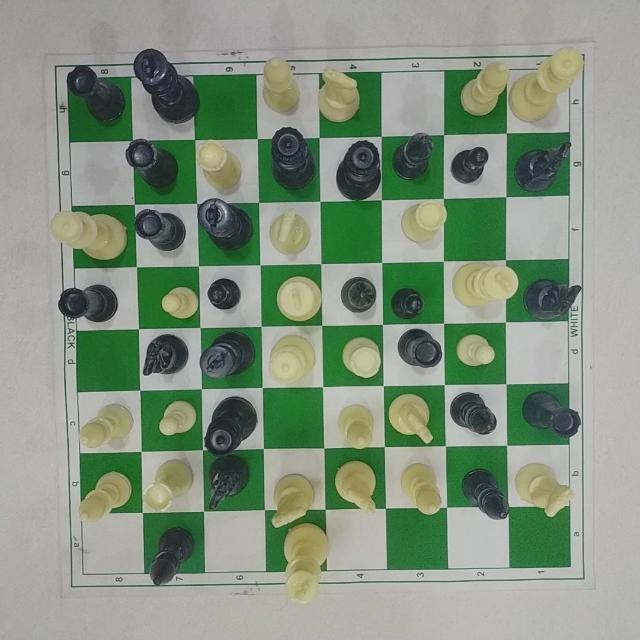black-bishop: (148, 522, 200, 587), (464, 460, 513, 525), (448, 390, 502, 440), (394, 129, 438, 187), (341, 268, 380, 317)
black-king: (133, 42, 205, 131), (197, 191, 261, 255), (199, 326, 258, 380)
black-knight: (516, 137, 578, 193), (525, 268, 587, 322), (206, 455, 254, 513), (140, 332, 190, 380)
black-pawn: (450, 143, 493, 185), (391, 282, 433, 322), (206, 274, 243, 316)
black-queen: (205, 394, 262, 456), (333, 140, 388, 202), (269, 126, 319, 190)
black-rook: (518, 385, 589, 447), (66, 63, 130, 125), (50, 279, 124, 325), (123, 135, 181, 193), (130, 203, 191, 258), (399, 325, 447, 376)
white-bishop: (75, 464, 136, 526), (456, 57, 512, 119), (403, 459, 453, 521), (76, 400, 136, 448), (257, 54, 301, 118), (333, 401, 377, 453)
white-king: (282, 522, 331, 606), (447, 256, 521, 308), (271, 266, 329, 322)
white-knight: (516, 454, 577, 524), (332, 455, 386, 518), (387, 388, 440, 447), (317, 62, 363, 127), (270, 470, 316, 528), (267, 209, 317, 257)
white-pawn: (457, 327, 503, 376), (161, 281, 203, 327), (155, 398, 198, 437)
white-queen: (515, 40, 585, 130), (45, 203, 132, 264), (264, 331, 323, 389)
white-rook: (339, 331, 389, 387), (144, 460, 194, 514), (400, 198, 451, 246), (198, 138, 245, 189)
